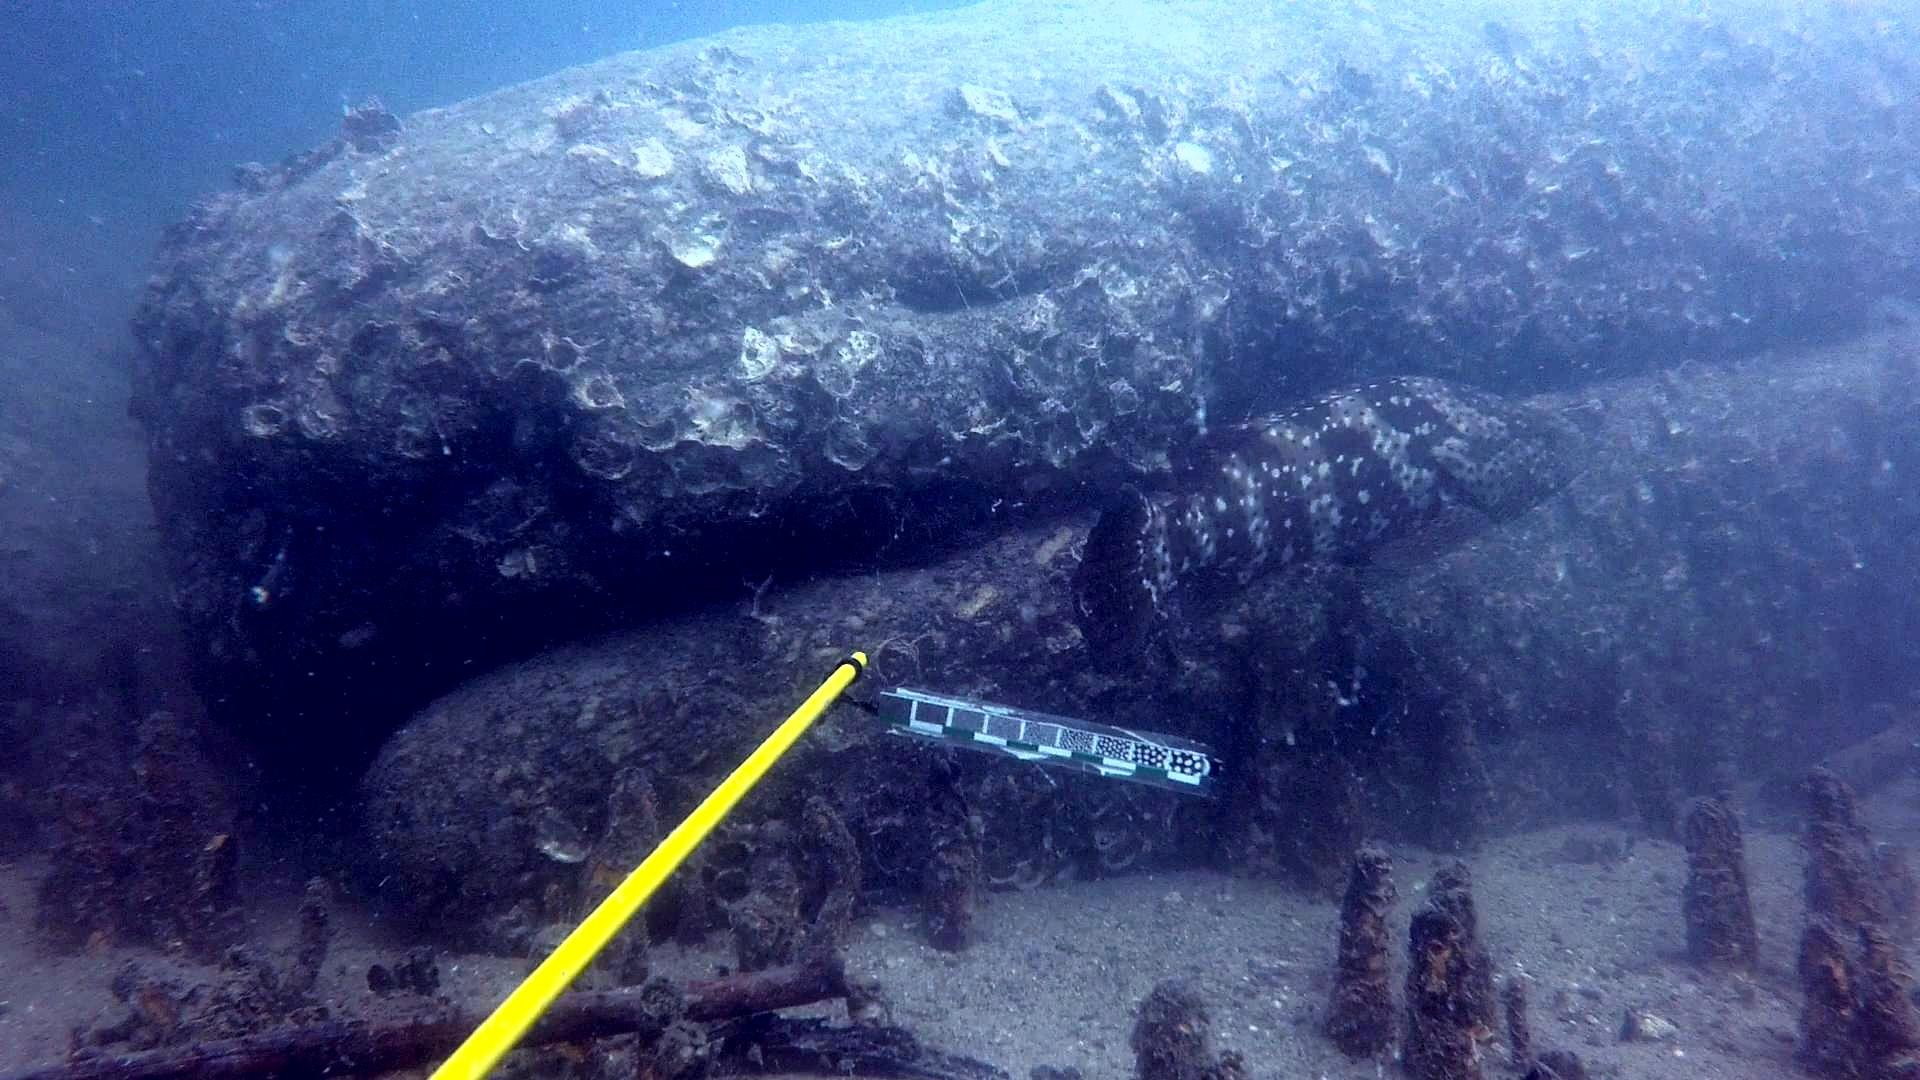epinephelus: (1071, 357, 1601, 671)
